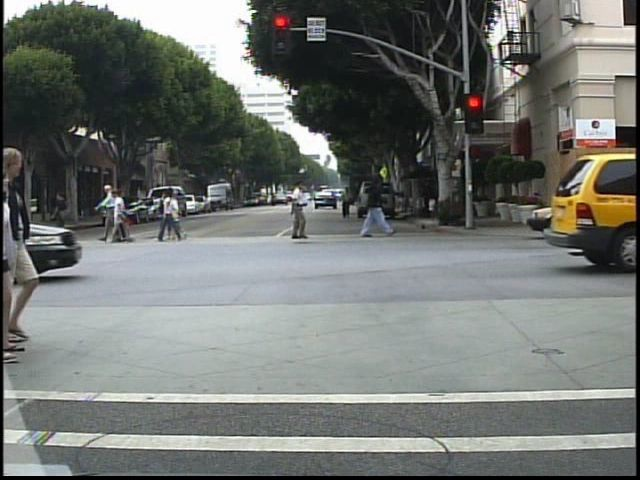person: (358, 169, 393, 242), (285, 177, 316, 242), (106, 188, 134, 252), (159, 188, 182, 246), (51, 185, 73, 235), (100, 181, 117, 245), (340, 184, 356, 220), (119, 186, 122, 246)
